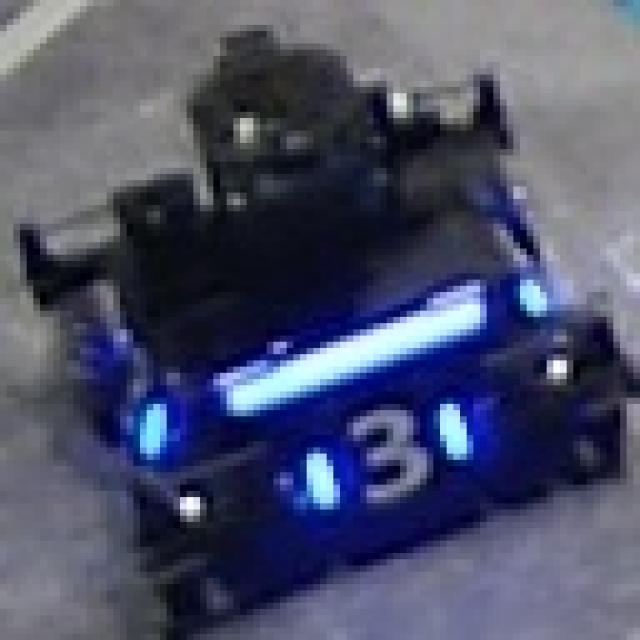B3: (300, 398, 480, 516)
